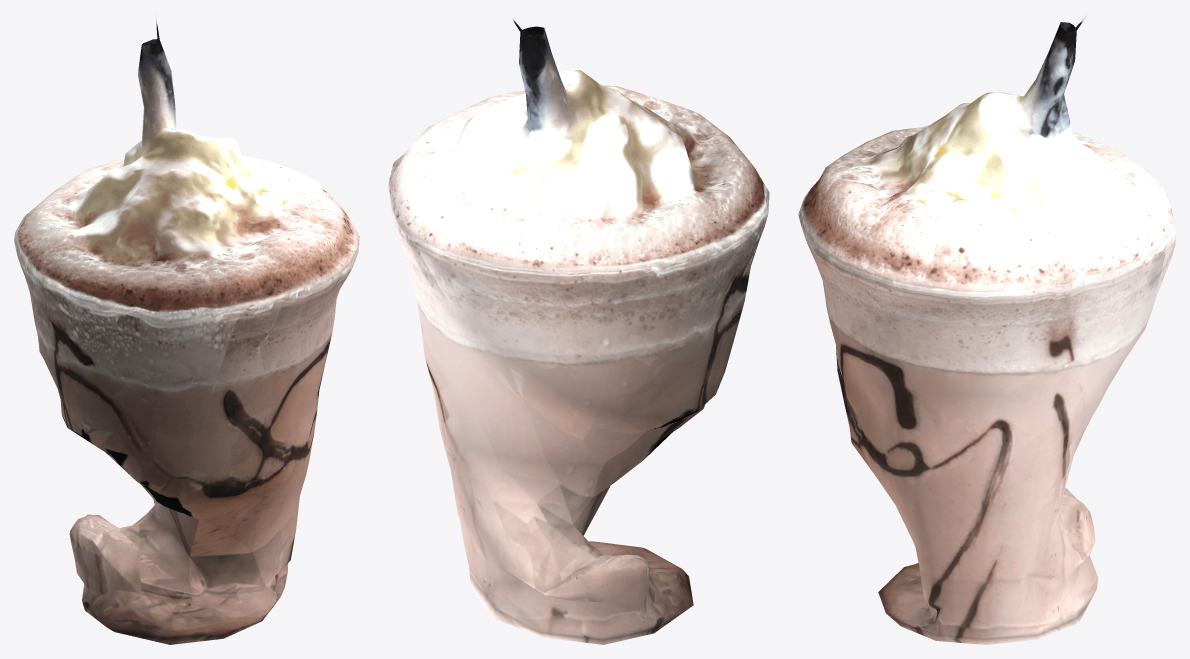
Rendered from milkshake.glb.
The picture shows the model from 3 angles, left to right: view 1: azimuth 30°, elevation 25°; view 2: azimuth 150°, elevation 25°; view 3: azimuth 270°, elevation 25°; orthographic projection. The views are drawn at different scales.
Visible parts, largest first — view 1: Retopo_texturedMesh_miljshake_0; view 2: Retopo_texturedMesh_miljshake_0; view 3: Retopo_texturedMesh_miljshake_0.
Part boxes in pixels (<box>): Retopo_texturedMesh_miljshake_0: <box>14,15,359,644</box>; Retopo_texturedMesh_miljshake_0: <box>388,15,769,644</box>; Retopo_texturedMesh_miljshake_0: <box>798,15,1175,644</box>.
Bounding box in the file's own units: 0.0965 × 0.17 × 0.0966.
Materials: 1 (1 with a texture image).
